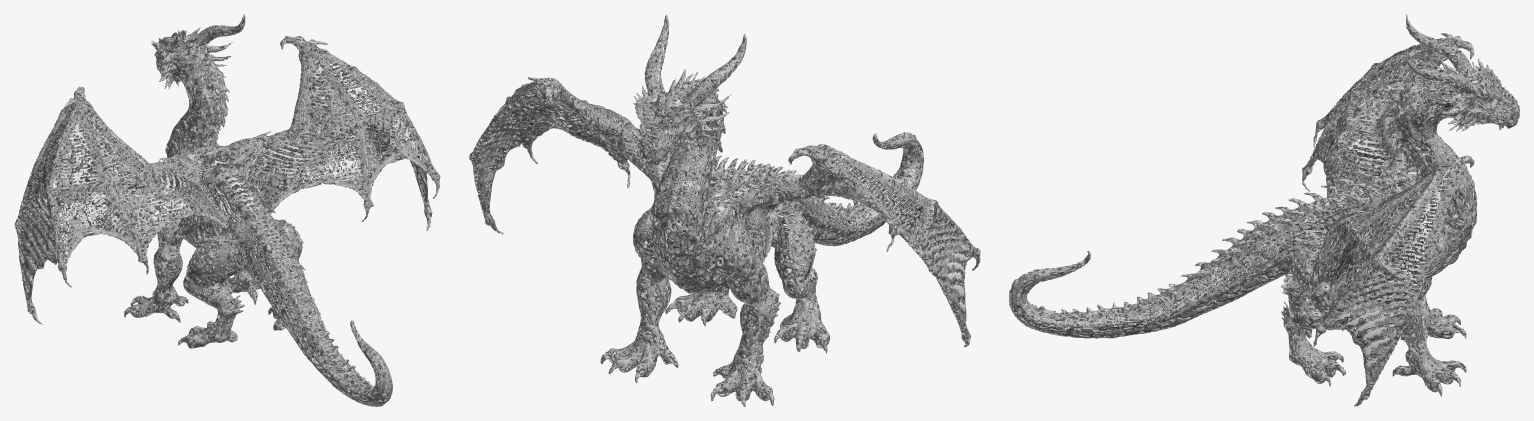
Rendered from yard-dragon.glb.
3 views of the same model, side by side, from view 1: azimuth 30°, elevation 25°; view 2: azimuth 150°, elevation 25°; view 3: azimuth 270°, elevation 25° (orthographic). The views are drawn at different scales.
Size of the model in its own units: 1.03 by 0.7037 by 1.
Materials: 1 (1 with a texture image).
